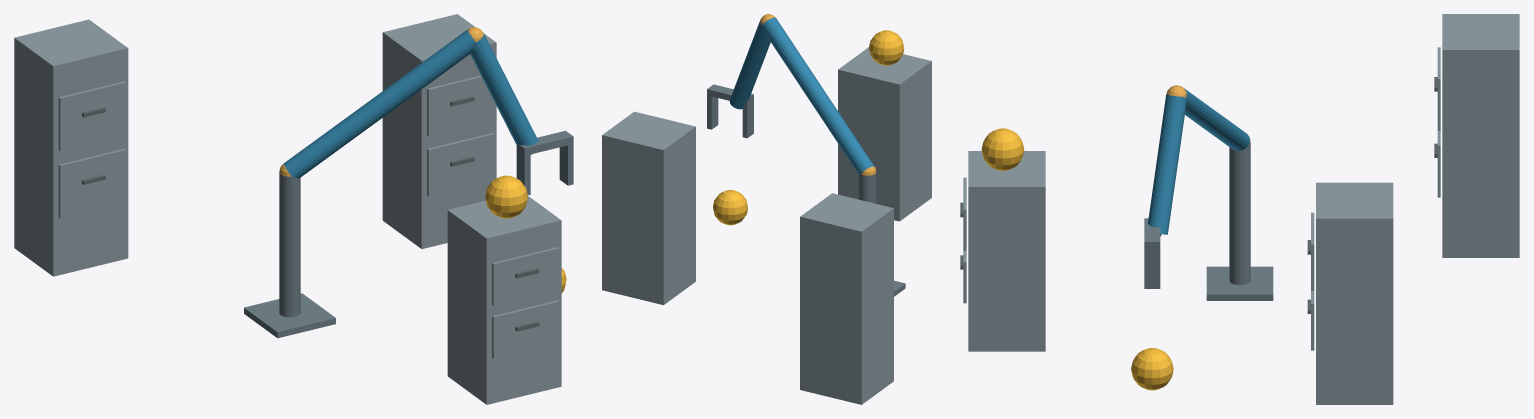
The picture shows the model from 3 angles, left to right: view 1: azimuth 30°, elevation 25°; view 2: azimuth 150°, elevation 25°; view 3: azimuth 270°, elevation 25°; orthographic projection. The views are drawn at different scales.
Parts seen in each view (by area): view 1: cabinet_3 body, cabinet_1 body, cabinet_2 body, moving link 1, cabinet_3 drawer front.001, cabinet_3 drawer front, cabinet_2 drawer front, fixed post, cabinet_2 drawer front.001, cabinet_1 drawer front, cabinet_1 drawer front.001, moving link 2 (+5 smaller); view 2: cabinet_3 body, cabinet_2 body, cabinet_1 body, moving link 1, moving link 2, released ball_1, ball ball_2, fixed post, gripper finger -1, gripper finger 1, gripper bridge; view 3: cabinet_3 body, cabinet_2 body, cabinet_1 body, fixed post, moving link 2, pedestal, moving link 1, ball ball_2, released ball_1, gripper finger 1.
Part boxes in pixels (x1,y1,x2,y2): cabinet_3 body: (14,19,128,276); cabinet_1 body: (447,196,561,404); cabinet_2 body: (382,14,496,248); moving link 1: (283,29,475,178); cabinet_3 drawer front.001: (58,81,125,150); cabinet_3 drawer front: (58,148,125,218); cabinet_2 drawer front: (427,133,494,196); fixed post: (279,173,300,317); cabinet_2 drawer front.001: (427,75,494,136); cabinet_1 drawer front: (492,300,559,358); cabinet_1 drawer front.001: (492,247,559,305); moving link 2: (470,33,538,154); cabinet_3 body: (800,193,893,404); cabinet_2 body: (602,111,695,305); cabinet_1 body: (838,47,931,221); moving link 1: (762,17,874,174); moving link 2: (729,20,770,109); released ball_1: (869,30,904,65); ball ball_2: (713,190,747,225); fixed post: (858,172,876,203); gripper finger -1: (742,100,753,138); gripper finger 1: (707,95,718,129); gripper bridge: (707,84,753,104); cabinet_3 body: (1442,14,1519,257); cabinet_2 body: (1316,182,1393,404); cabinet_1 body: (968,151,1045,351); fixed post: (1229,142,1250,285); moving link 2: (1148,94,1186,234); pedestal: (1206,266,1273,300); moving link 1: (1184,88,1249,150); ball ball_2: (1131,348,1173,390); released ball_1: (981,128,1024,170); gripper finger 1: (1144,249,1160,288).
Bounding box in the file's own units: 1.62 × 1.13 × 2.1.
